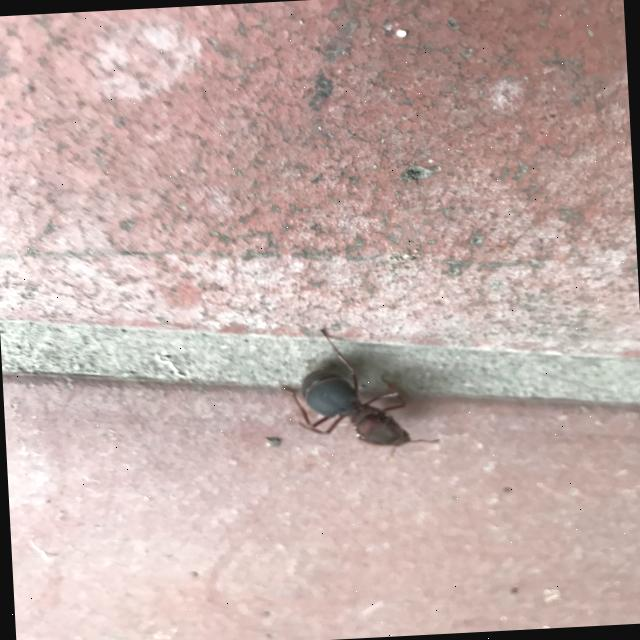Alive-Female-Dealate: (276, 322, 444, 469)
